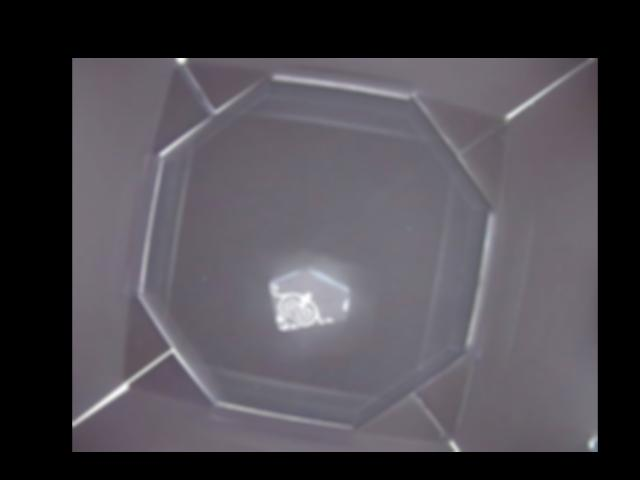China: (270, 268, 351, 333)
